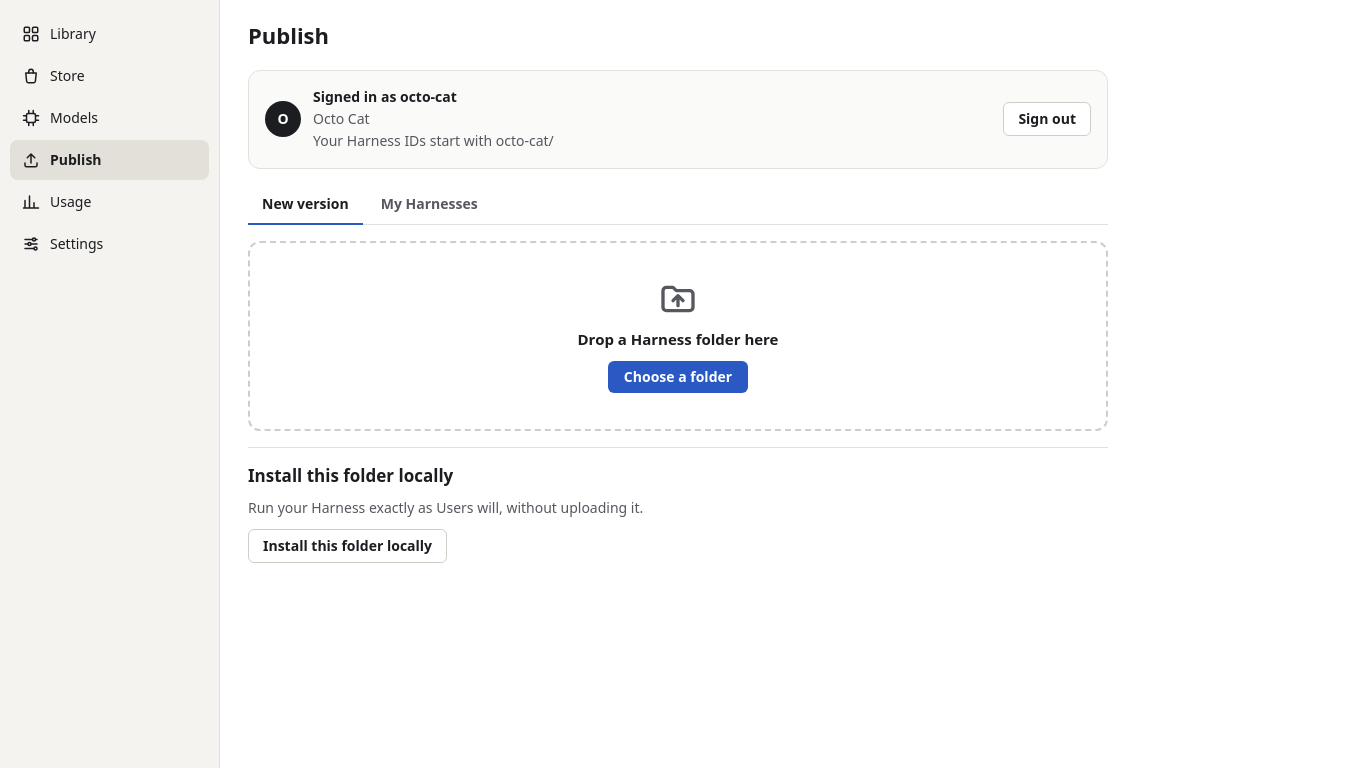
Test: My Harnesses › lists every Harness and version with its status, its downloads and the takedown note
Click the tab "My Harnesses".
click(429, 205)  # box 367,185 -> 492,225
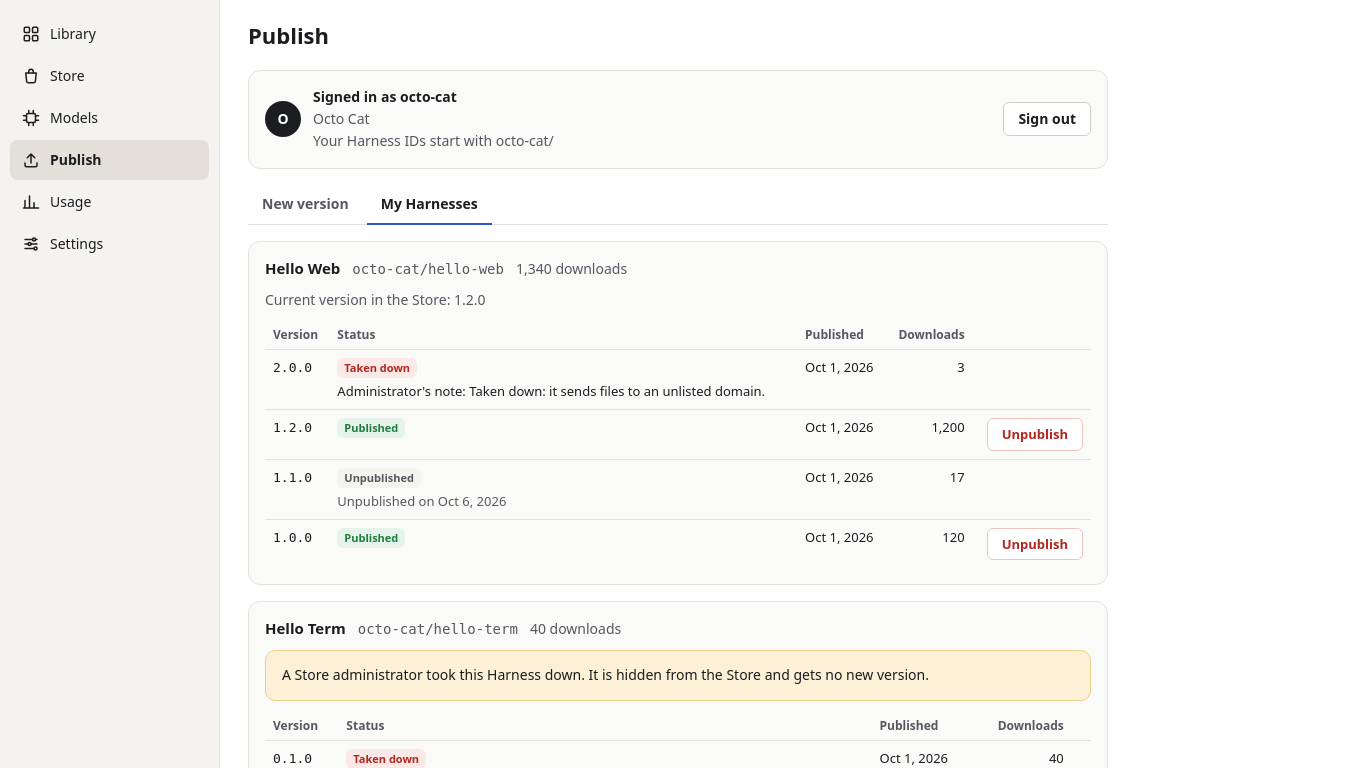
Check: the heading "Hello Web" is shown, box 265,258 -> 340,280
Check: the text "octo-cat/hello-web" is shown, box 352,259 -> 504,279
Check: the text "1,340 downloads" is shown, box 516,259 -> 627,279
